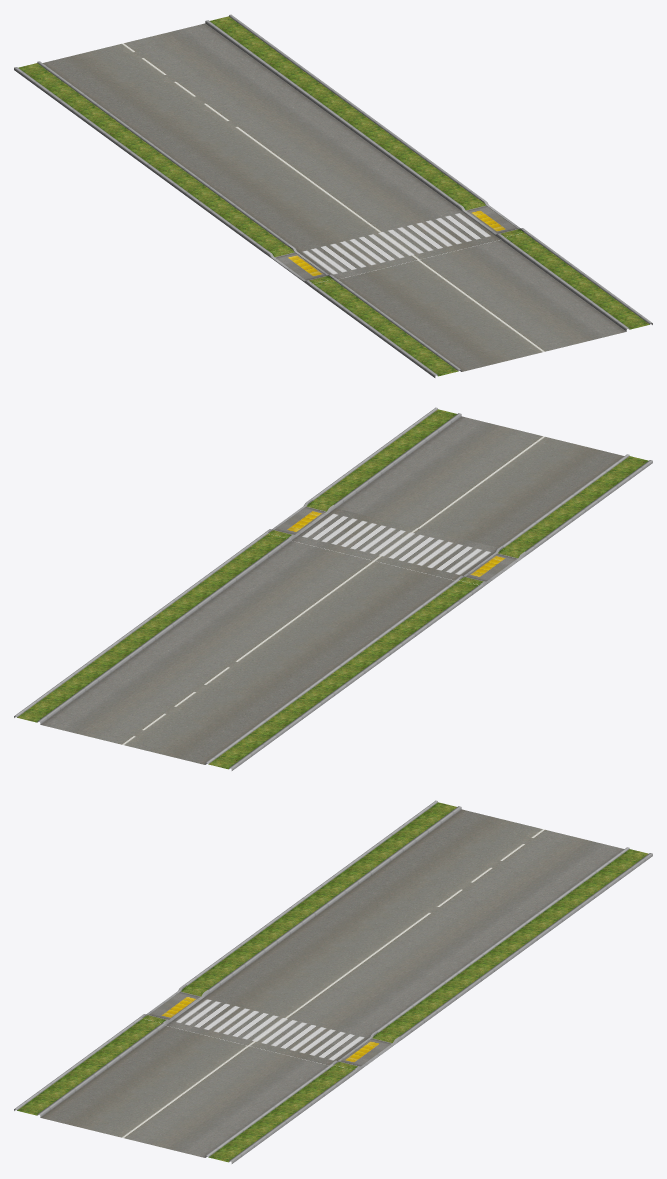
The model's file is RoadSamlpe.fbx.
The picture shows the model from 3 angles, top to bottom: view 1: azimuth 30°, elevation 25°; view 2: azimuth 150°, elevation 25°; view 3: azimuth 330°, elevation 25°; orthographic projection.
Visible parts, largest first — view 1: Road2ContinuousLine001, Road2IntermittentLine, Road2ContinuousLine, Road2Line-Crosswalk01; view 2: Road2IntermittentLine, Road2ContinuousLine, Road2ContinuousLine001, Road2Line-Crosswalk01; view 3: Road2ContinuousLine001, Road2IntermittentLine, Road2ContinuousLine, Road2Line-Crosswalk01.
Boxes of the visible parts, x1=… form: Road2ContinuousLine001: x1=309, y1=231, x2=652, y2=377; Road2IntermittentLine: x1=14, y1=14, x2=356, y2=161; Road2ContinuousLine: x1=139, y1=106, x2=481, y2=253; Road2Line-Crosswalk01: x1=265, y1=198, x2=526, y2=285; Road2IntermittentLine: x1=14, y1=624, x2=357, y2=770; Road2ContinuousLine: x1=140, y1=532, x2=482, y2=678; Road2ContinuousLine001: x1=311, y1=407, x2=652, y2=554; Road2Line-Crosswalk01: x1=266, y1=499, x2=527, y2=586; Road2ContinuousLine001: x1=14, y1=1017, x2=357, y2=1163; Road2IntermittentLine: x1=310, y1=800, x2=652, y2=947; Road2ContinuousLine: x1=185, y1=892, x2=527, y2=1039; Road2Line-Crosswalk01: x1=140, y1=984, x2=401, y2=1071.
Bounding box in the file's own units: 15.8 × 0.1872 × 53.
